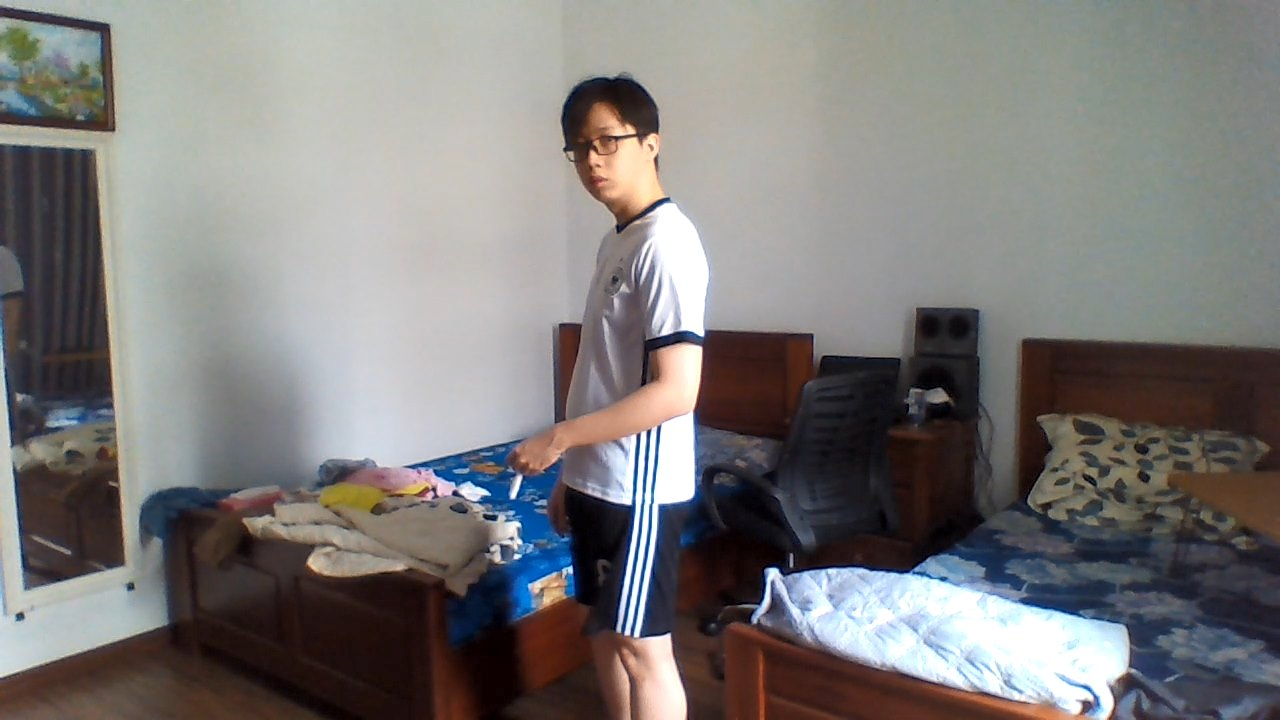cigarette: (504, 470, 525, 503)
person: (507, 66, 726, 720)
